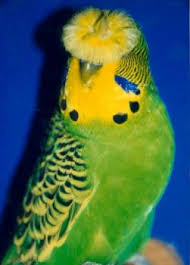budgie: (1, 10, 176, 265)
